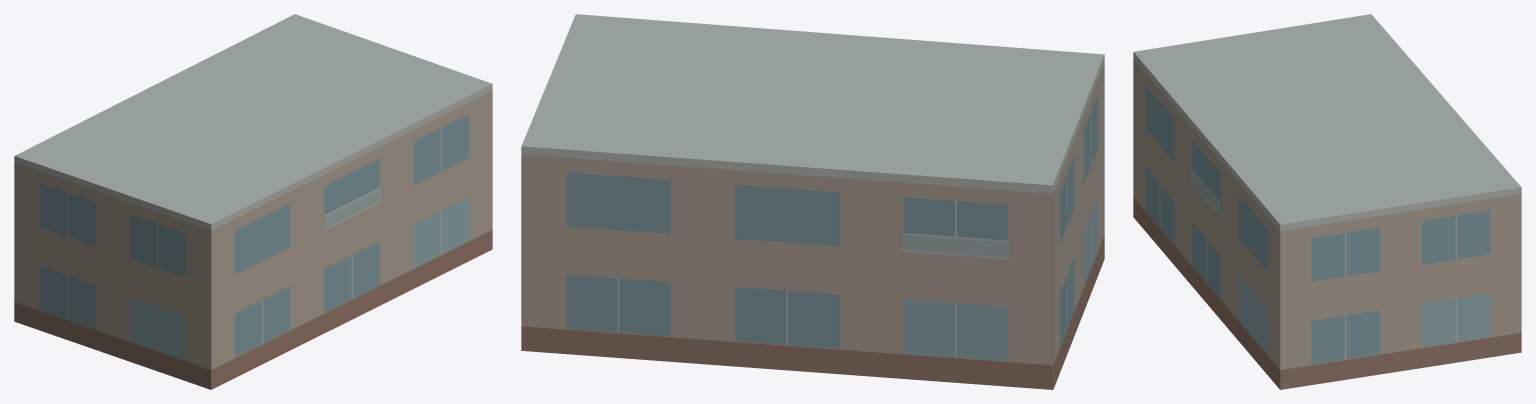
The model's file is survey-upis-32538626.glb.
The picture shows the model from 3 angles, left to right: view 1: azimuth 30°, elevation 25°; view 2: azimuth 150°, elevation 25°; view 3: azimuth 270°, elevation 25°; orthographic projection. The views are drawn at different scales.
Visible parts, largest first — view 1: survey-upis-32538626.tmp; view 2: survey-upis-32538626.tmp; view 3: survey-upis-32538626.tmp.
Boxes of the visible parts, x1,y1,x2,y2 form: survey-upis-32538626.tmp: [14, 14, 492, 389]; survey-upis-32538626.tmp: [521, 14, 1104, 389]; survey-upis-32538626.tmp: [1133, 14, 1521, 389].
Size of the model in its own units: 16.68 by 6.1 by 12.99.
